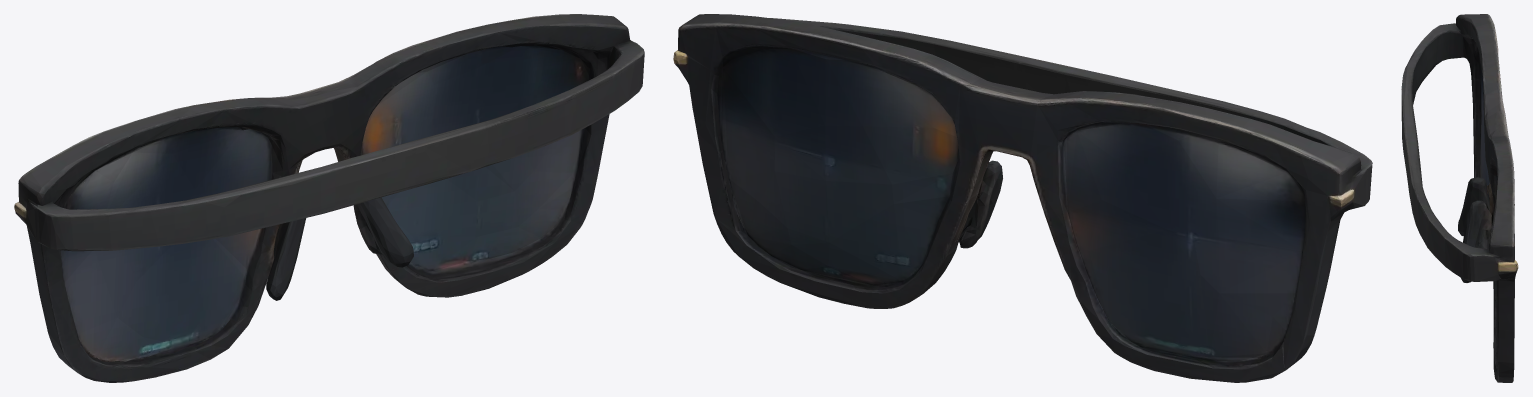
File: black_glasses2.glb
3 renders of one model, left to right at view 1: azimuth 30°, elevation 25°; view 2: azimuth 150°, elevation 25°; view 3: azimuth 270°, elevation 25°, orthographic. The views are drawn at different scales.
Parts seen in each view (by area): view 1: geometry_0.006; view 2: geometry_0.006; view 3: geometry_0.006.
Boxes of the visible parts, box(x1,y1,x2,y2) form: geometry_0.006: box(14, 14, 644, 382); geometry_0.006: box(673, 14, 1372, 382); geometry_0.006: box(1401, 14, 1518, 382).
Bounding box in the file's own units: 0.1754 × 0.0686 × 0.0372.
1 material, 1 textured.
